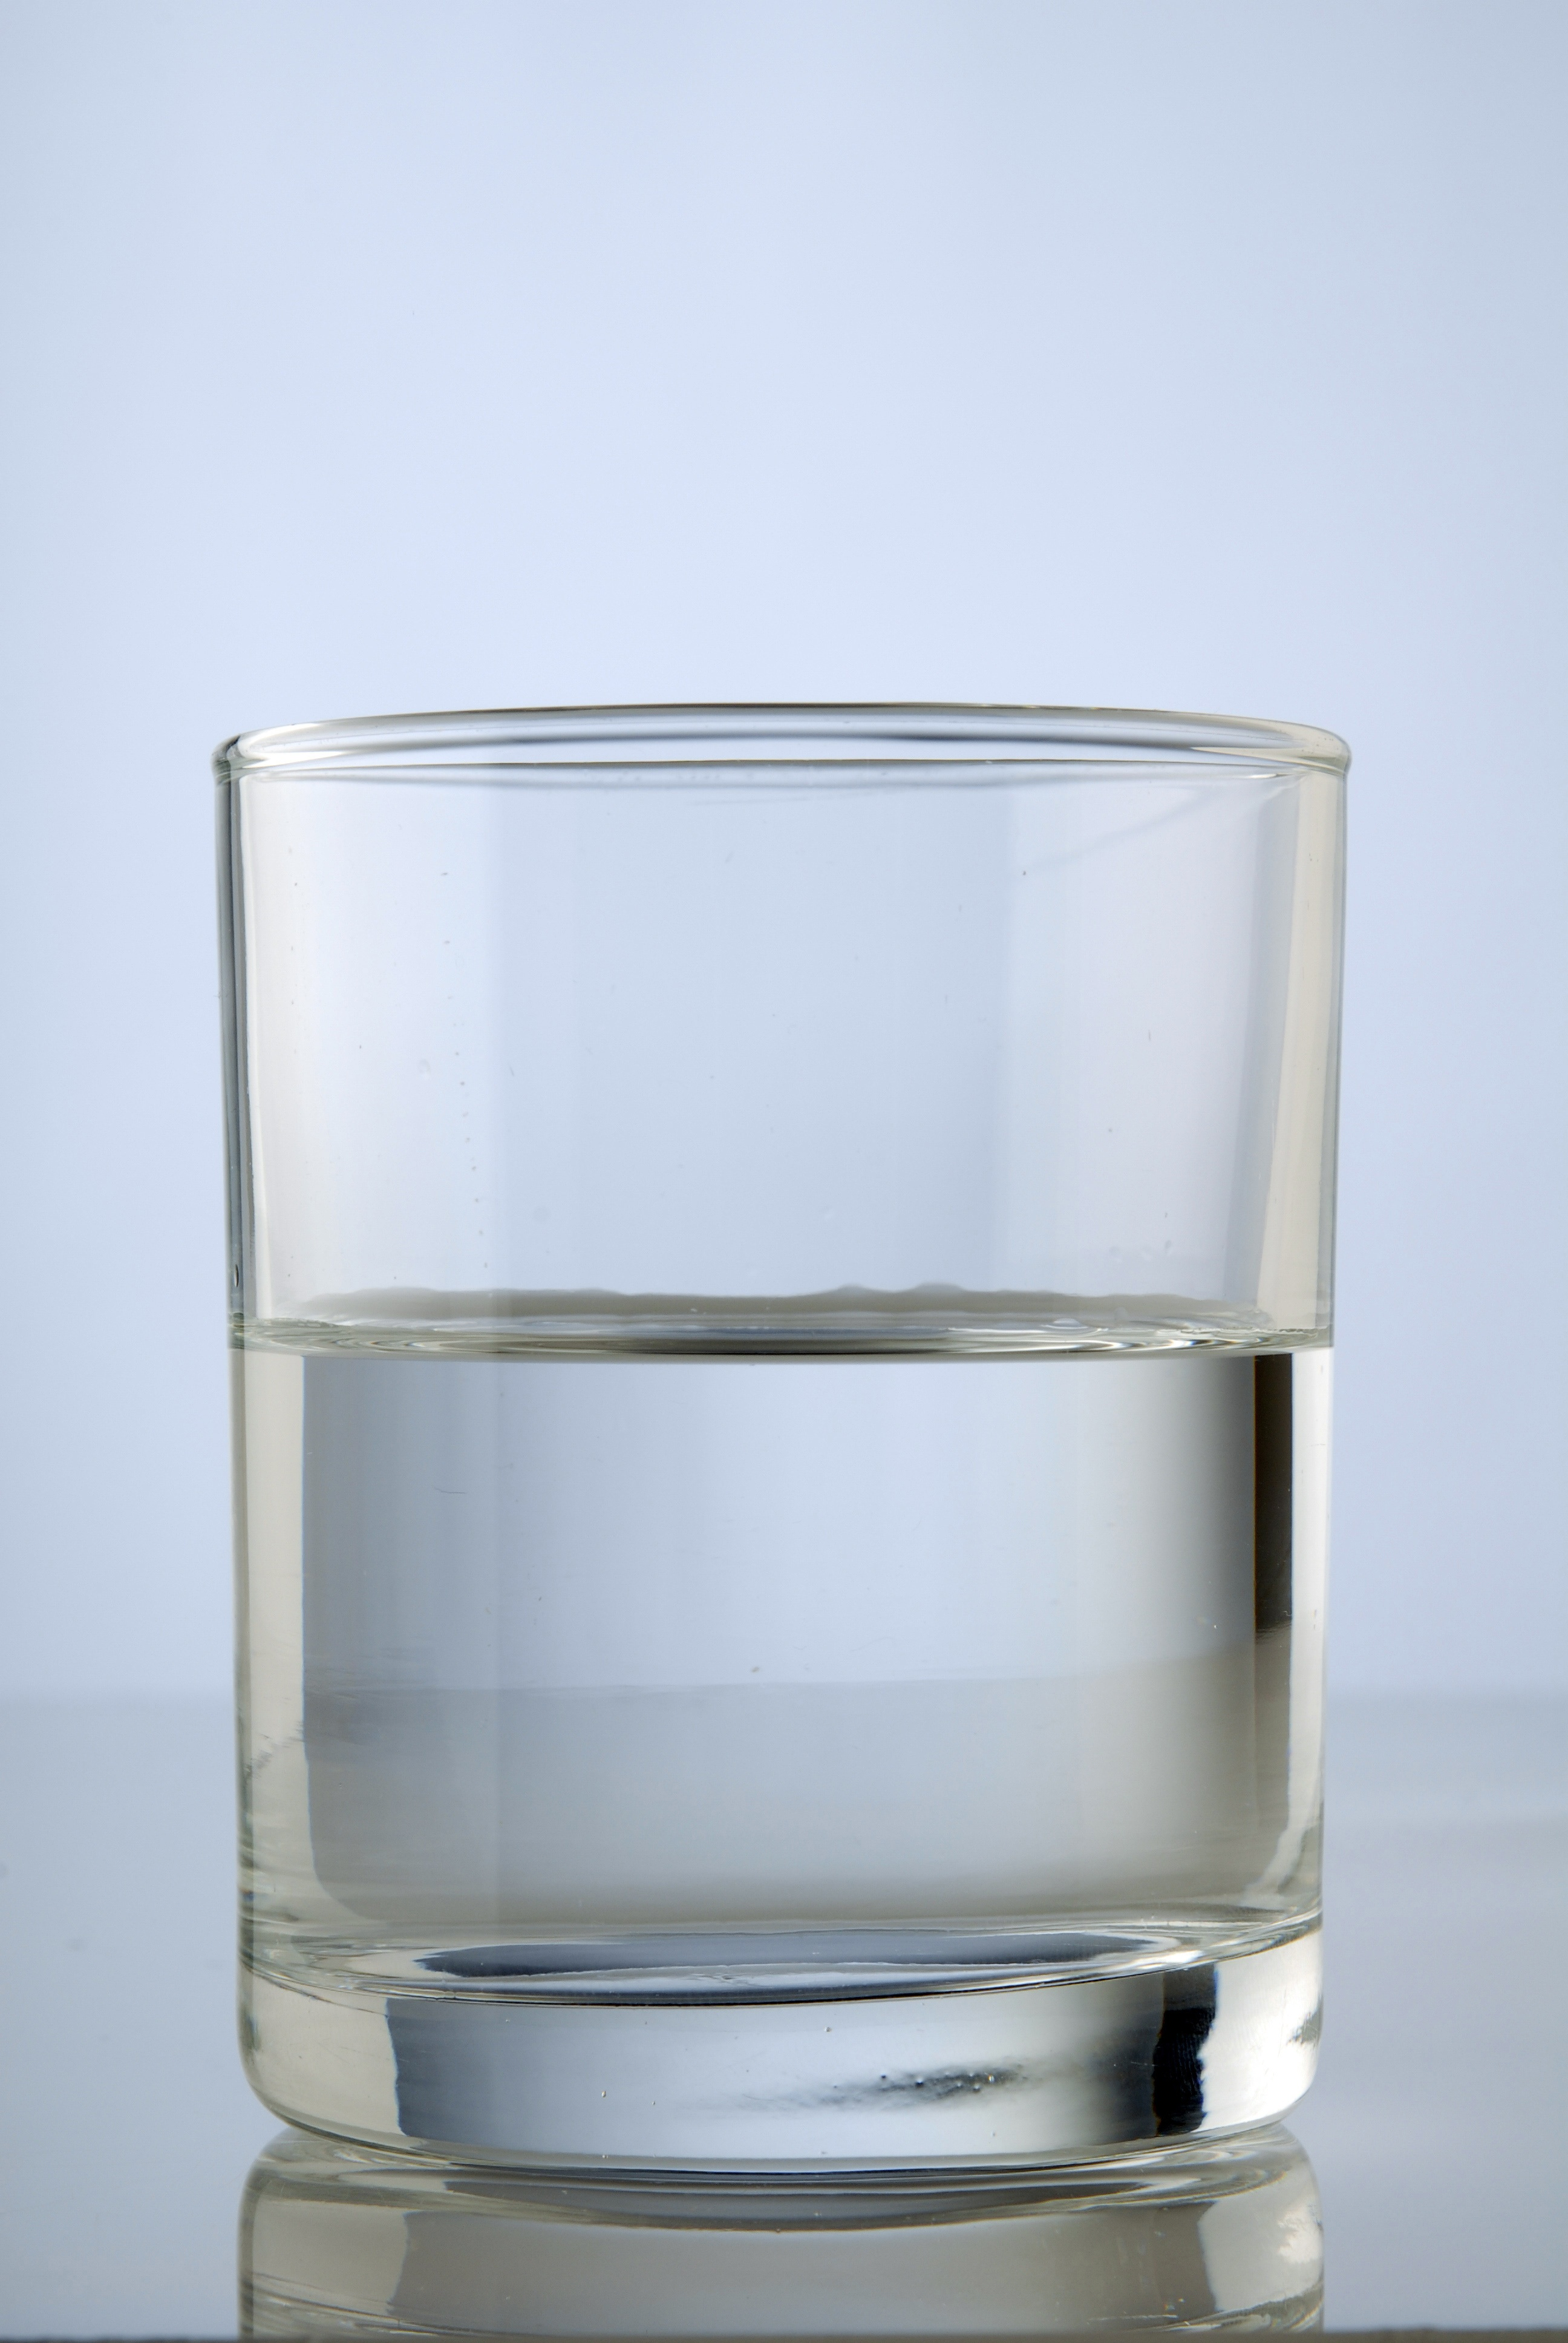glass of water: (247, 763, 1297, 2091)
